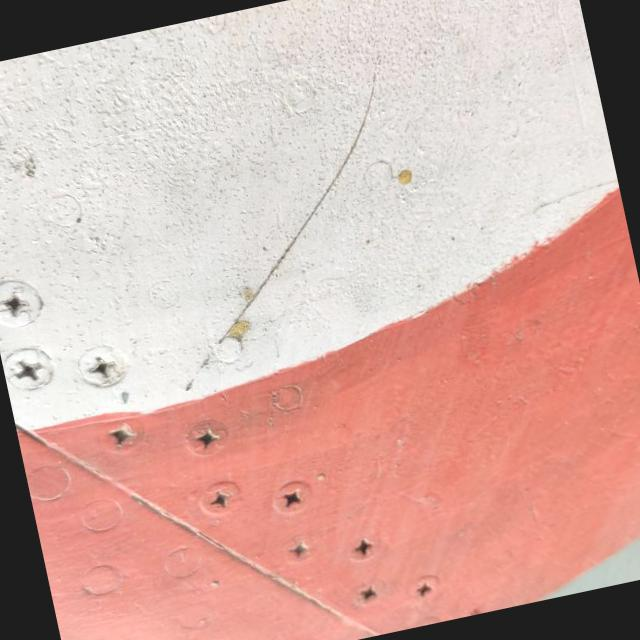scratch: (112, 62, 462, 408)
